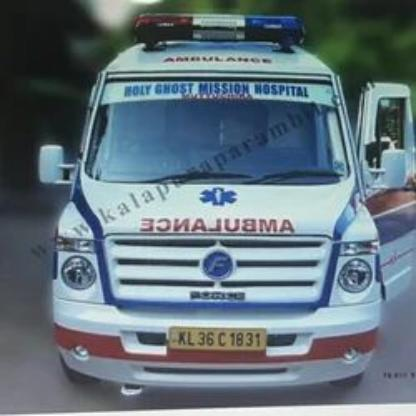priority: (34, 6, 416, 398)
